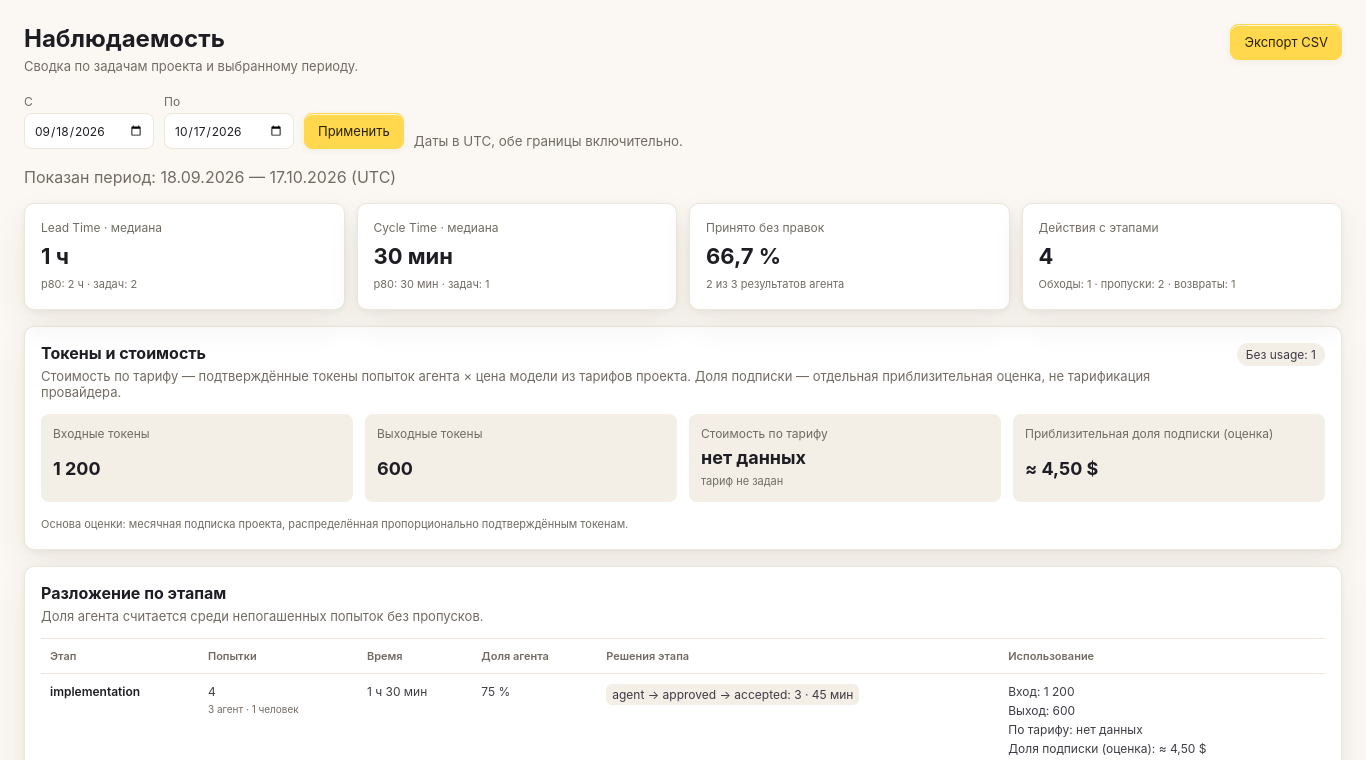
Test: Observability › labels the period fields as UTC and shows the applied period
Expected: the heading "Разложение по этапам" is shown, top-left (41, 583), bottom-right (226, 603)
Step 1. Type "2026-10-01" into the date field labelled "С" → [89, 131], box top-left (24, 113), bottom-right (154, 149)
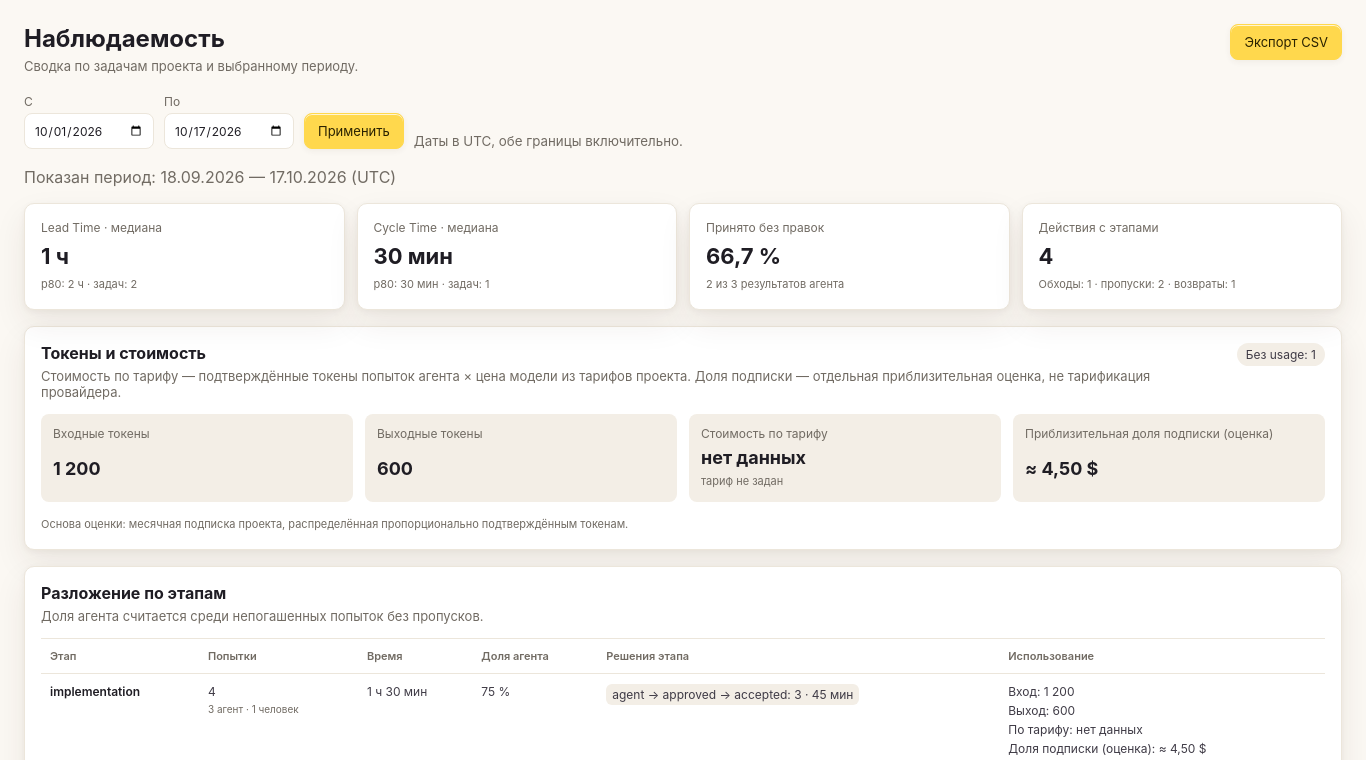
Step 2. Type "2026-10-31" into the date field labelled "По" → [229, 131], box top-left (164, 113), bottom-right (294, 149)
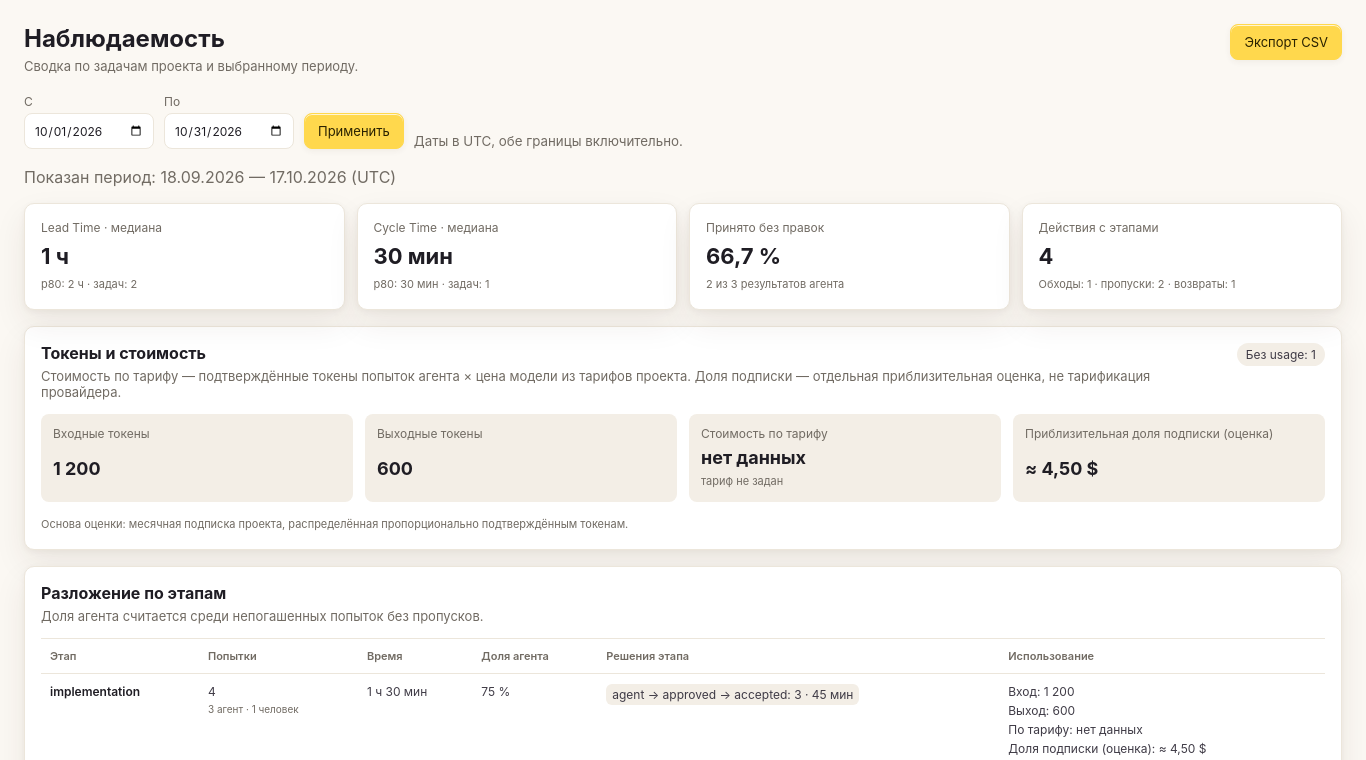
Expected: the text with test id "applied-period" does not show "01.10.2026", top-left (24, 167), bottom-right (396, 187)
Step 3. Click the button "Применить" → [354, 131], box top-left (304, 113), bottom-right (404, 149)
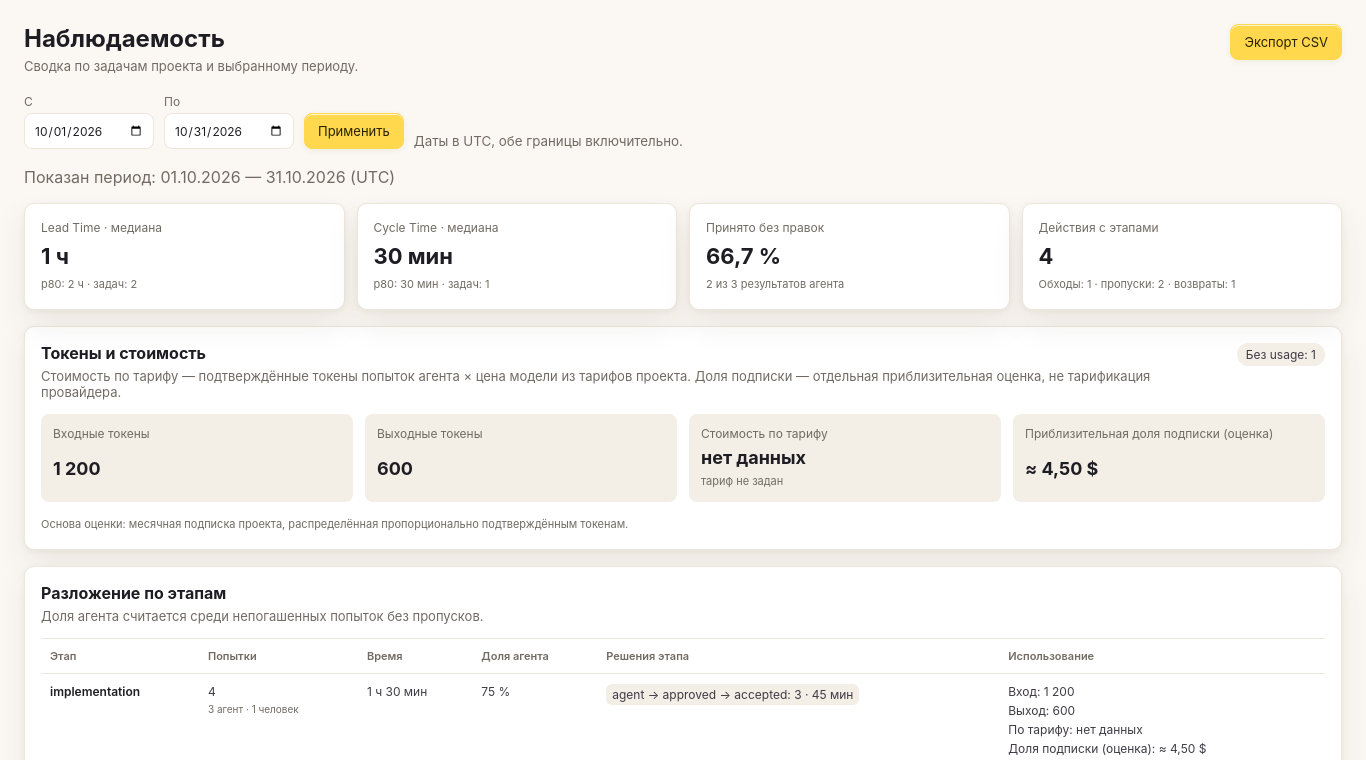
Result: the text with test id "applied-period" reads "Показан период: 01.10.2026 — 31.10.2026 (UTC)" at top-left (24, 167), bottom-right (395, 187)
